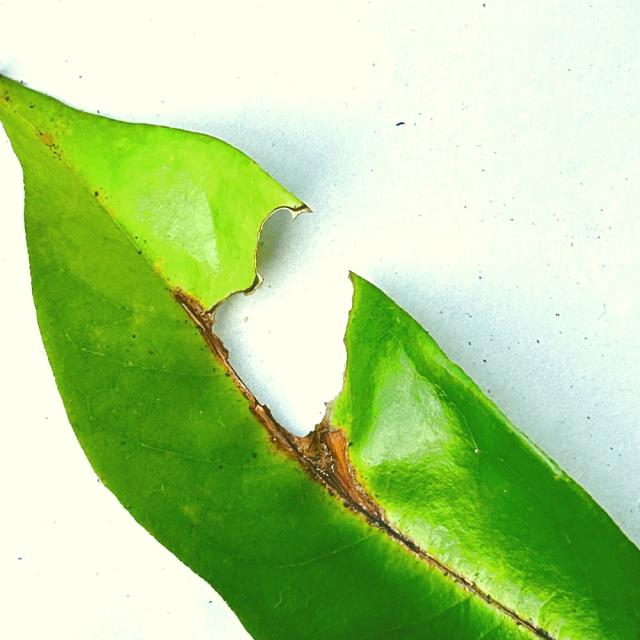Deficiency Leaf: (214, 210, 353, 436)
Lychee: (0, 76, 639, 639)
